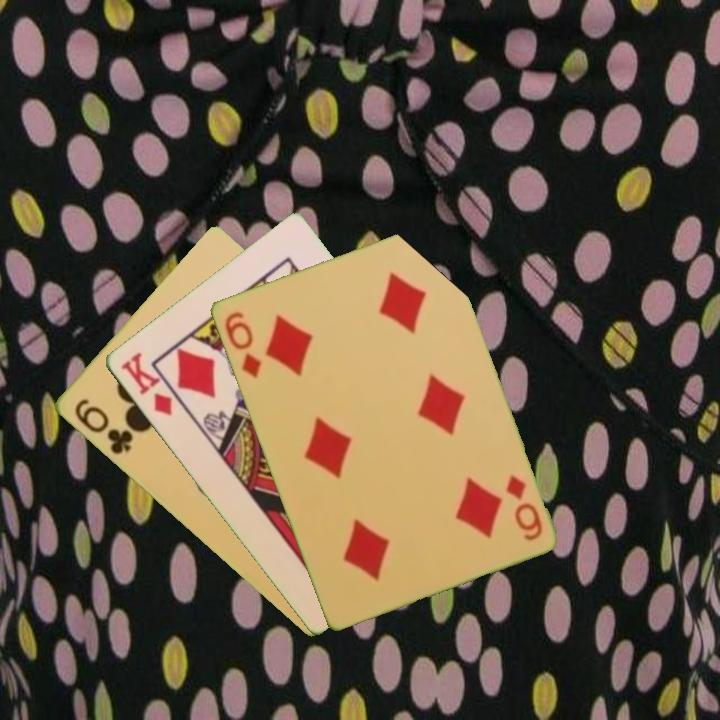6c: (70, 395, 136, 458)
6d: (220, 308, 264, 381), (501, 471, 545, 544)
Kd: (116, 349, 175, 419)
